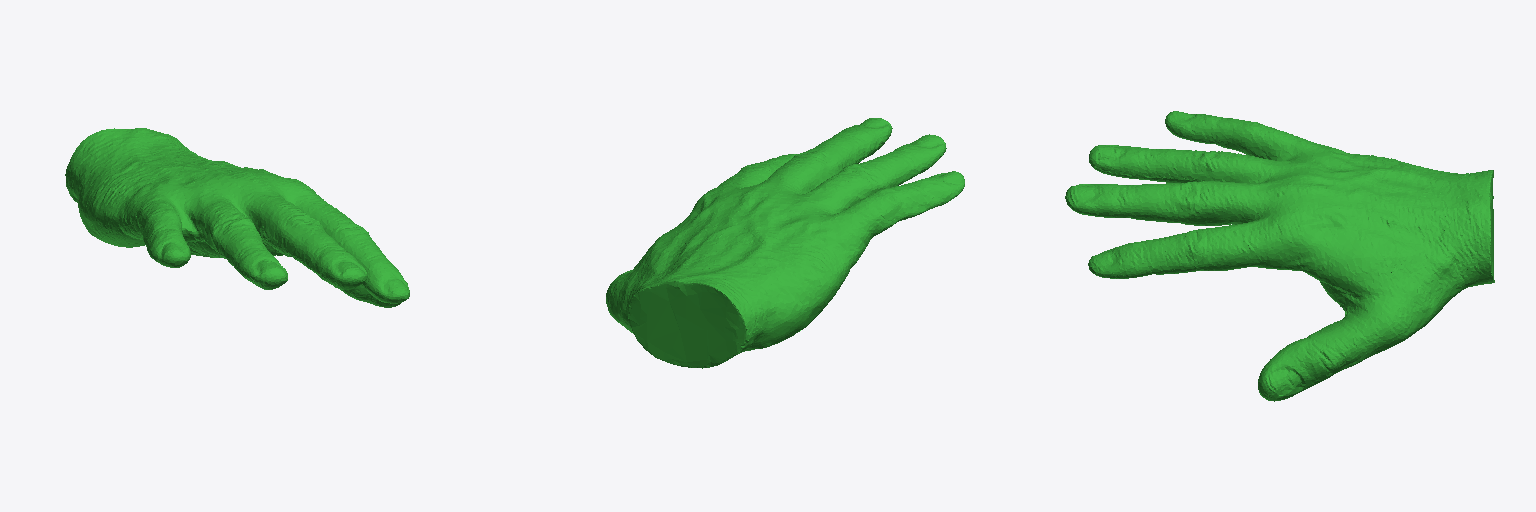
The model's file is Hand.obj.
3 views of the same model, side by side, from view 1: azimuth 30°, elevation 25°; view 2: azimuth 150°, elevation 25°; view 3: azimuth 270°, elevation 25° (orthographic).
Parts seen in each view (by area): view 1: obj_0; view 2: obj_0; view 3: obj_0.
Part boxes in pixels (left/top/right/bottom): obj_0: left=65, top=128, right=409, bottom=307; obj_0: left=606, top=118, right=964, bottom=368; obj_0: left=1065, top=111, right=1494, bottom=401.
Size of the model in its own units: 79 by 41.35 by 100.